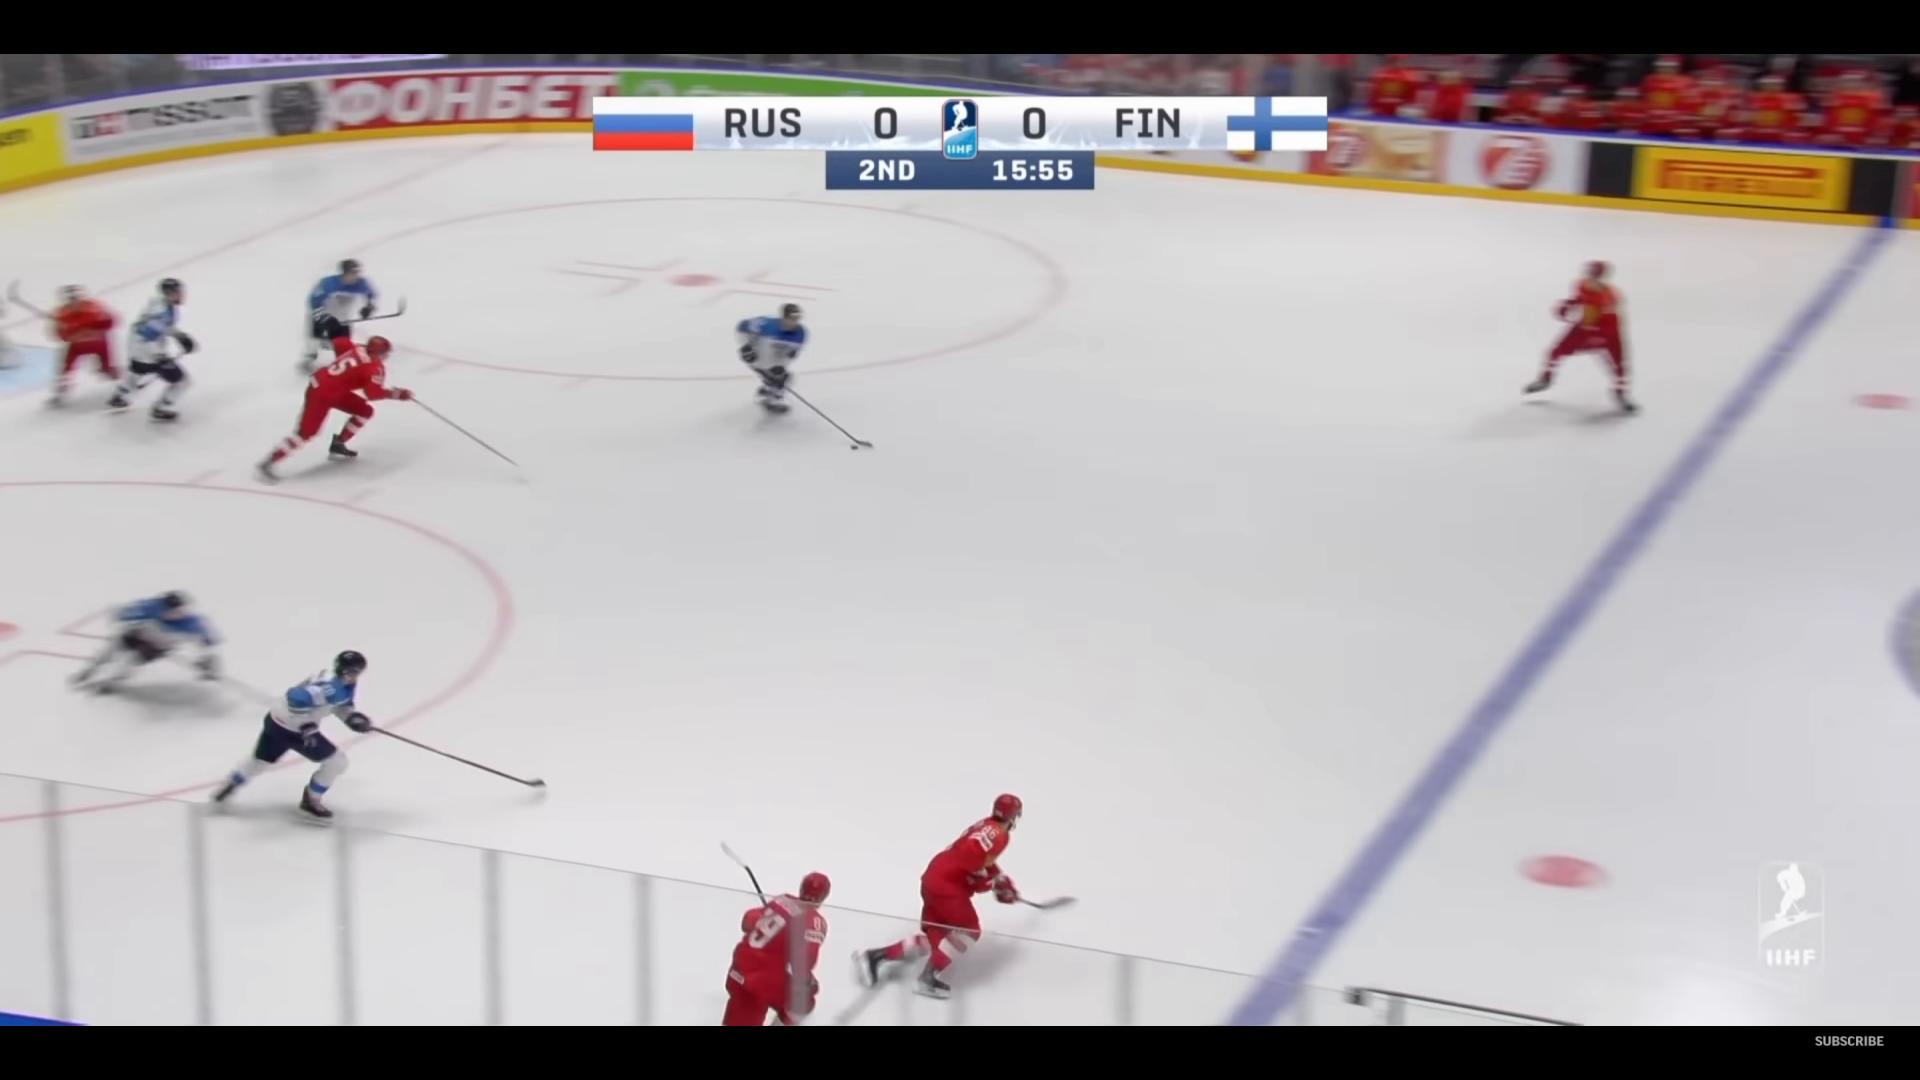puck: (849, 444, 857, 450)
